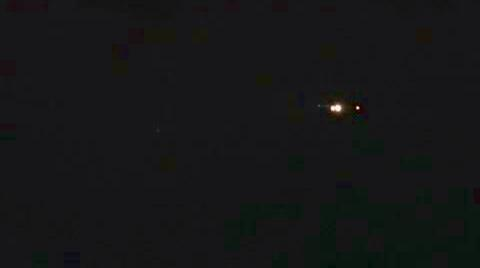Plane: (294, 78, 390, 132)
